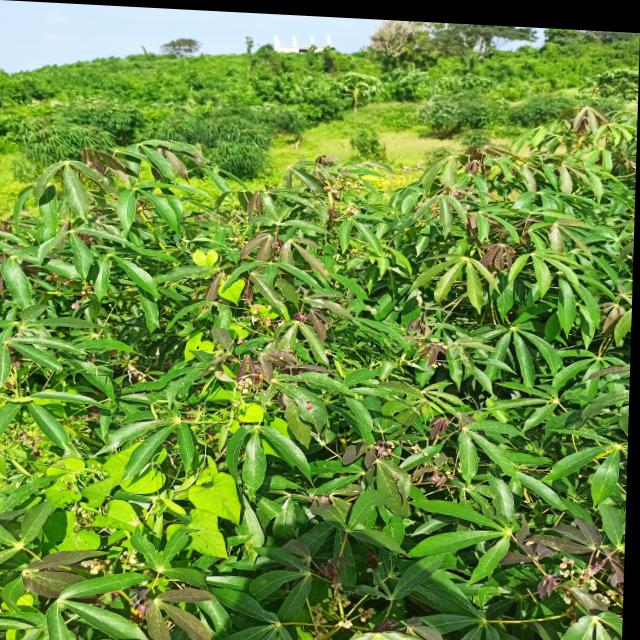Maleza: (269, 98, 433, 164), (178, 466, 241, 564), (66, 461, 133, 526), (231, 405, 267, 427), (182, 245, 217, 263), (221, 282, 242, 305)
Mosaico: (485, 226, 516, 269)
